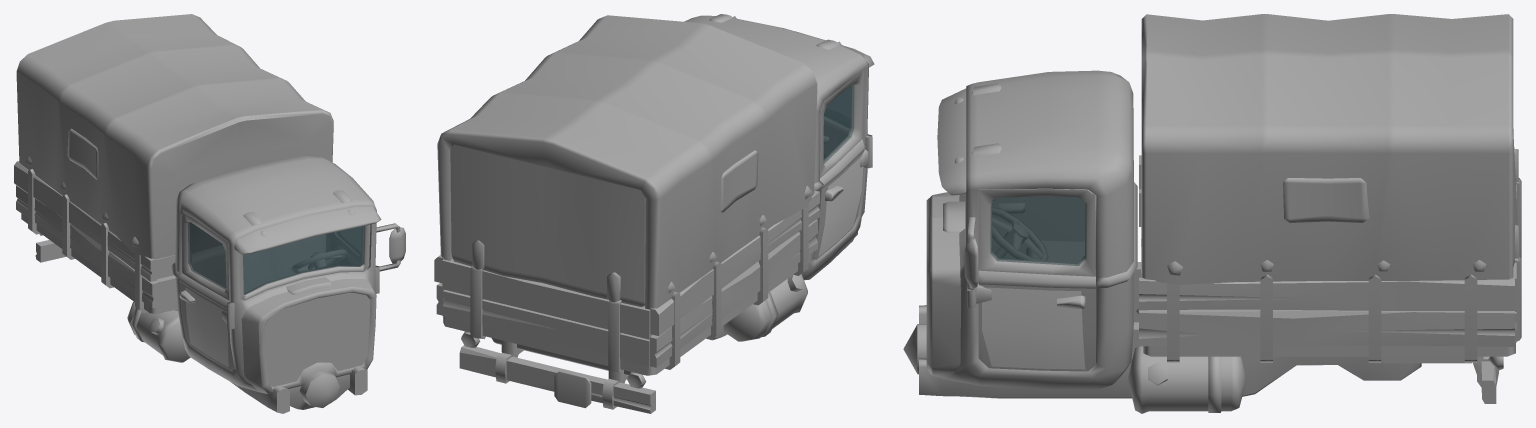
Rendered from Body_Truck.fbx.
3 renders of one model, left to right at view 1: azimuth 30°, elevation 25°; view 2: azimuth 150°, elevation 25°; view 3: azimuth 270°, elevation 25°, orthographic. The views are drawn at different scales.
Parts seen in each view (by area): view 1: Truck_Body_Mesh, Truck_Body_Tent_Mesh, Truck_Body_Windows_Mesh, Truck_Body_Door_Right_Mesh, Truck_Body_Door_Right_Decal_Mesh, Truck_Body_Door_Right_Window_Mesh, Truck_Steer_Wheel_Mesh, Truck_Body_Door_Left_Mesh, Truck_Body_Door_Left_Window_Mesh; view 2: Truck_Body_Tent_Mesh, Truck_Body_Mesh, Truck_Body_Tent_BackDoor_Mesh, Truck_Body_BackDoor_Mesh, Truck_Body_Door_Right_Mesh, Truck_Body_Door_Right_Decal_Mesh, Truck_Body_Door_Right_Window_Mesh, Truck_Body_Windows_Mesh; view 3: Truck_Body_Tent_Mesh, Truck_Body_Mesh, Truck_Body_Door_Left_Mesh, Truck_Body_Door_Left_Decal_Mesh, Truck_Body_Door_Left_Window_Mesh, Truck_Body_Door_Right_Mesh, Truck_Steer_Wheel_Mesh, Truck_Body_BackDoor_Mesh, Truck_Body_Tent_BackDoor_Mesh.
Part boxes in pixels (x1,y1,x2,y2): Truck_Body_Mesh: [14, 155, 405, 413]; Truck_Body_Tent_Mesh: [16, 14, 333, 259]; Truck_Body_Windows_Mesh: [243, 226, 364, 294]; Truck_Body_Door_Right_Mesh: [178, 213, 234, 369]; Truck_Body_Door_Right_Decal_Mesh: [185, 287, 228, 367]; Truck_Body_Door_Right_Window_Mesh: [188, 222, 226, 289]; Truck_Steer_Wheel_Mesh: [291, 250, 347, 273]; Truck_Body_Door_Left_Mesh: [327, 226, 362, 266]; Truck_Body_Door_Left_Window_Mesh: [337, 227, 361, 254]; Truck_Body_Tent_Mesh: [437, 15, 817, 309]; Truck_Body_Mesh: [434, 14, 874, 413]; Truck_Body_Tent_BackDoor_Mesh: [450, 144, 645, 306]; Truck_Body_BackDoor_Mesh: [442, 259, 652, 372]; Truck_Body_Door_Right_Mesh: [813, 70, 868, 259]; Truck_Body_Door_Right_Decal_Mesh: [818, 154, 863, 256]; Truck_Body_Door_Right_Window_Mesh: [823, 84, 854, 163]; Truck_Body_Windows_Mesh: [824, 86, 850, 127]; Truck_Body_Tent_Mesh: [1141, 14, 1513, 284]; Truck_Body_Mesh: [903, 70, 1515, 413]; Truck_Body_Door_Left_Mesh: [976, 188, 1095, 371]; Truck_Body_Door_Left_Decal_Mesh: [982, 287, 1085, 369]; Truck_Body_Door_Left_Window_Mesh: [990, 196, 1085, 265]; Truck_Body_Door_Right_Mesh: [992, 195, 1095, 259]; Truck_Steer_Wheel_Mesh: [992, 207, 1048, 260]; Truck_Body_BackDoor_Mesh: [1513, 178, 1521, 342]; Truck_Body_Tent_BackDoor_Mesh: [1513, 129, 1518, 266].
Size of the model in its own units: 200 by 220 by 380.
